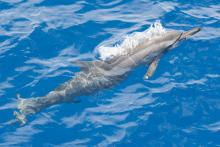fish: (13, 25, 205, 126)
